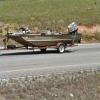Boat: (5, 18, 91, 60)
